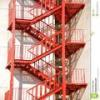stairs: (24, 23, 61, 52)
